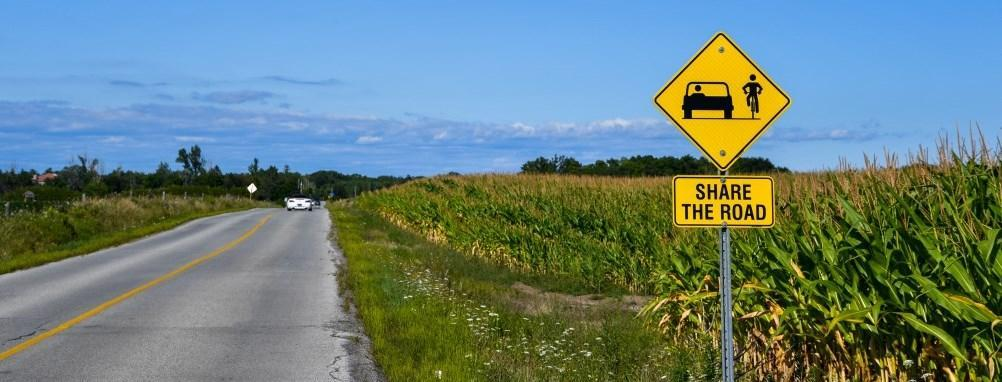car: (286, 195, 313, 214)
indicator: (655, 33, 790, 228)
language: (681, 182, 767, 222)
